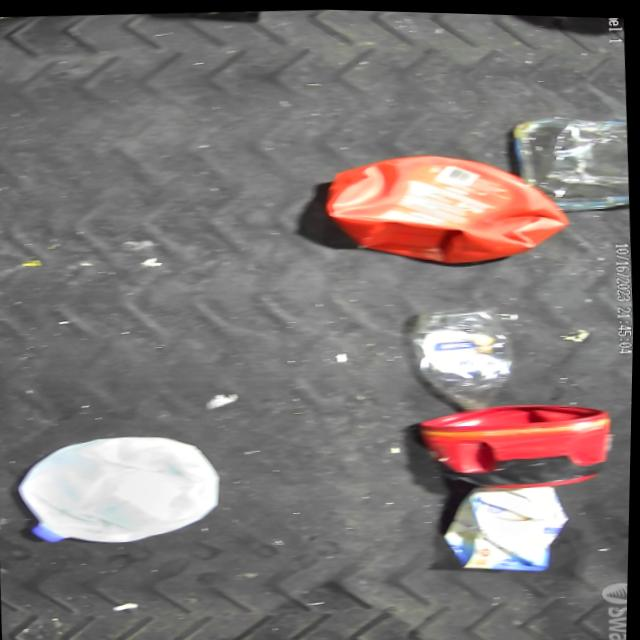milk_jug: (14, 427, 229, 551)
non_white_jug: (321, 142, 574, 271), (414, 394, 617, 493), (444, 479, 575, 574)
